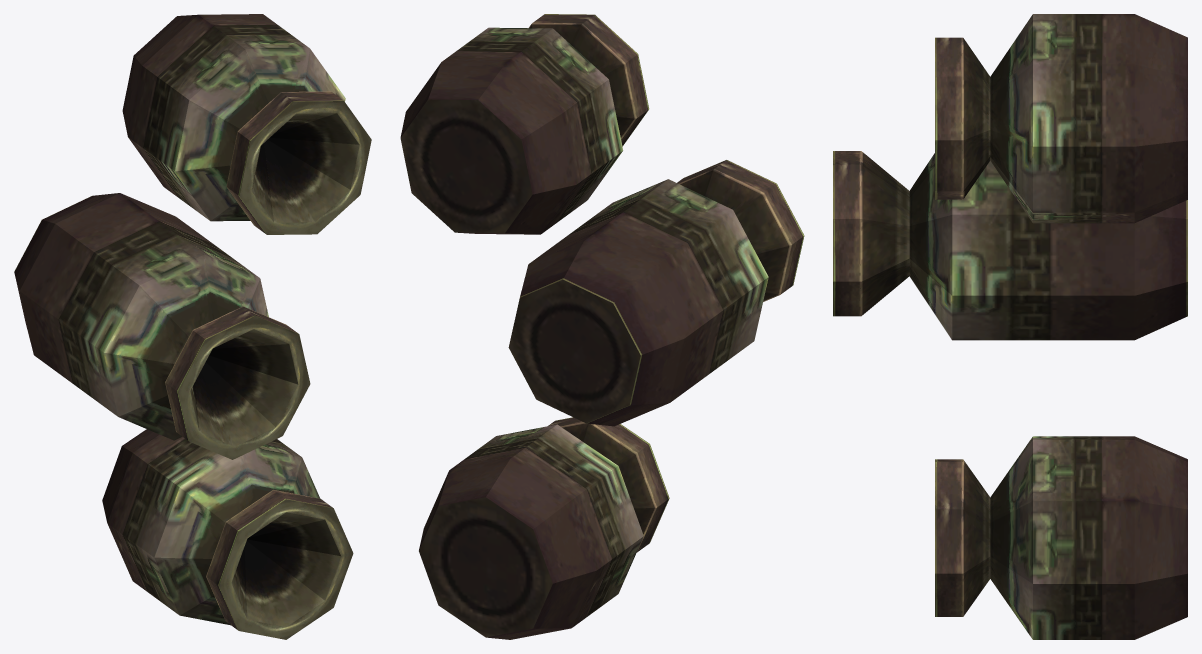
File: tanxian_dongxue_371_taoguan01.obj
3 renders of one model, left to right at view 1: azimuth 30°, elevation 25°; view 2: azimuth 150°, elevation 25°; view 3: azimuth 270°, elevation 25°, orthographic. The views are drawn at different scales.
Parts seen in each view (by area): view 1: Cylinder02, Cylinder03, Cylinder01; view 2: Cylinder02, Cylinder03, Cylinder01; view 3: Cylinder02, Cylinder03, Cylinder01.
Boxes of the visible parts, x1=… form: Cylinder02: x1=14, y1=193, x2=310, y2=459; Cylinder03: x1=122, y1=14, x2=371, y2=234; Cylinder01: x1=102, y1=429, x2=353, y2=639; Cylinder02: x1=508, y1=160, x2=804, y2=426; Cylinder03: x1=400, y1=14, x2=649, y2=234; Cylinder01: x1=419, y1=417, x2=669, y2=639; Cylinder02: x1=833, y1=151, x2=1187, y2=340; Cylinder03: x1=935, y1=14, x2=1187, y2=223; Cylinder01: x1=935, y1=436, x2=1187, y2=639.
Bounding box in the file's own units: 67.39 × 133 × 68.57.
1 material, 1 textured.
